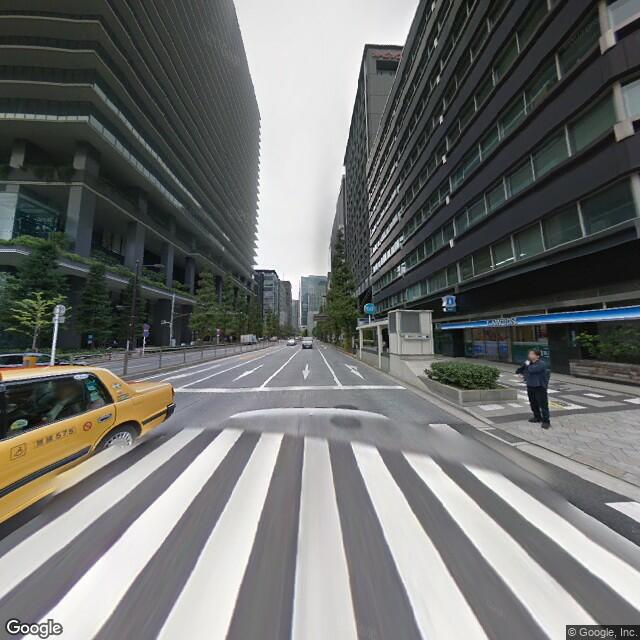lawson: (435, 298, 638, 336), (439, 291, 456, 310)
